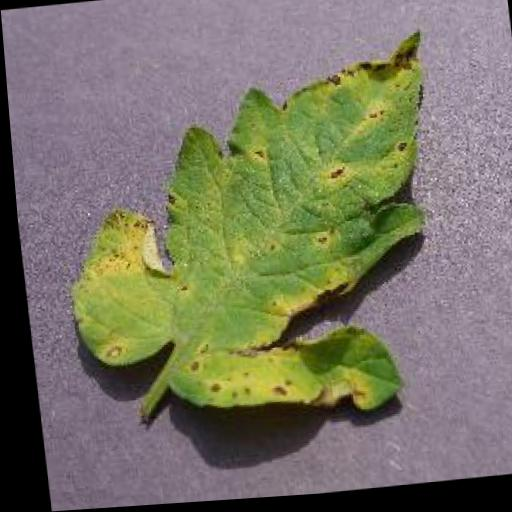Septoria: (43, 38, 455, 443)
